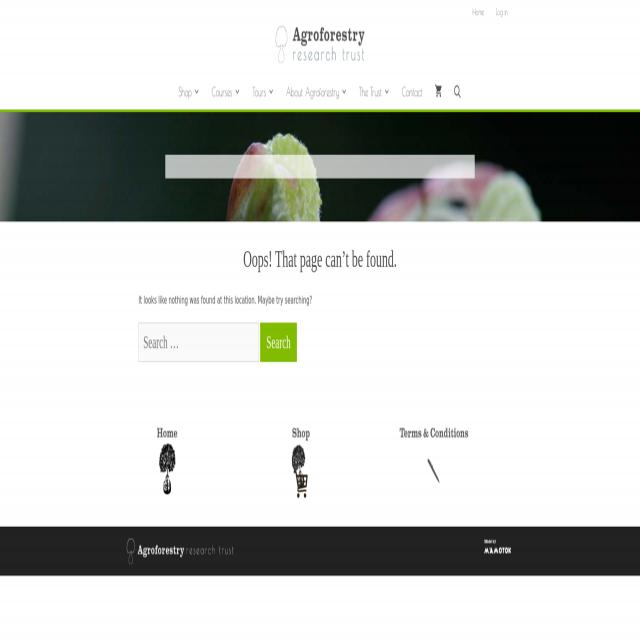button: (127, 427, 209, 499), (260, 427, 342, 499), (393, 427, 475, 499), (275, 23, 365, 65), (126, 538, 236, 564), (280, 74, 353, 109), (353, 74, 396, 109), (260, 323, 297, 362), (206, 74, 247, 109), (246, 74, 280, 109), (172, 74, 205, 109), (396, 74, 428, 109), (448, 74, 468, 109), (429, 74, 447, 109), (490, 0, 514, 24), (466, 0, 490, 24), (482, 538, 513, 556)
field: (138, 323, 258, 362)
